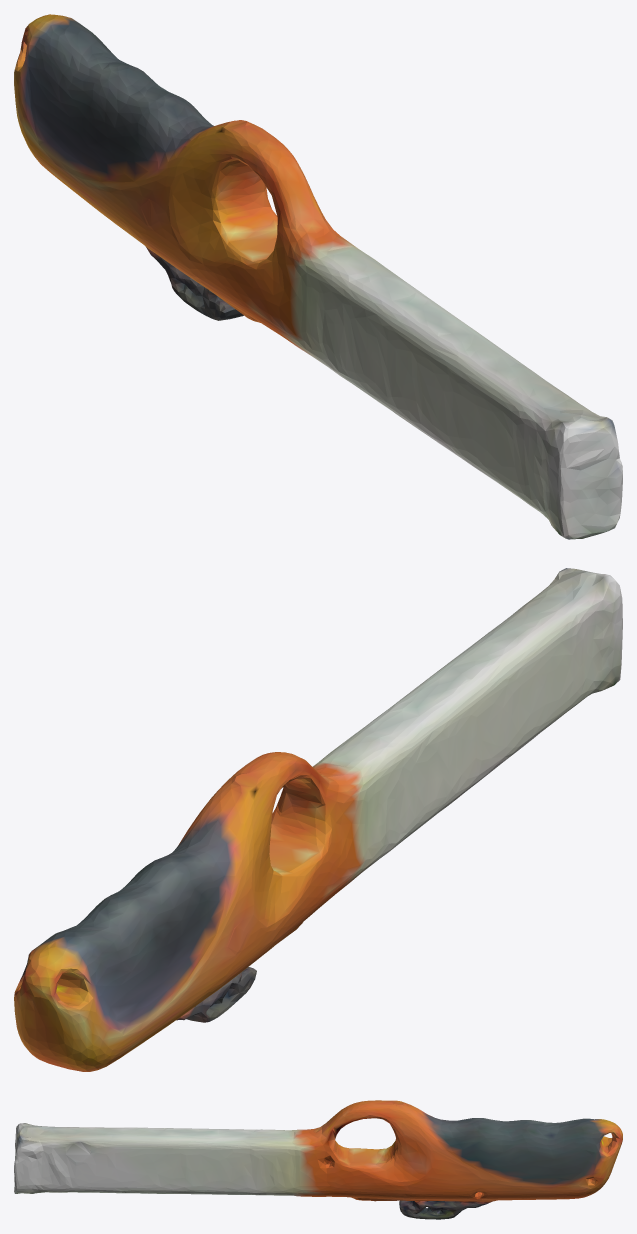
File: scan.obj
3 views of the same model, one above another, from view 1: azimuth 30°, elevation 25°; view 2: azimuth 150°, elevation 25°; view 3: azimuth 270°, elevation 25° (orthographic). The views are drawn at different scales.
Visible parts, largest first — view 1: scan.ply; view 2: scan.ply; view 3: scan.ply.
Boxes of the visible parts, x1,y1,x2,y2 form: scan.ply: (14,14,622,539); scan.ply: (14,568,622,1071); scan.ply: (14,1100,622,1219).
Bounding box in the file's own units: 0.025 × 0.057 × 0.2763.
